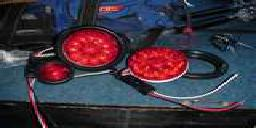LED: (123, 47, 189, 83), (60, 29, 112, 68)
